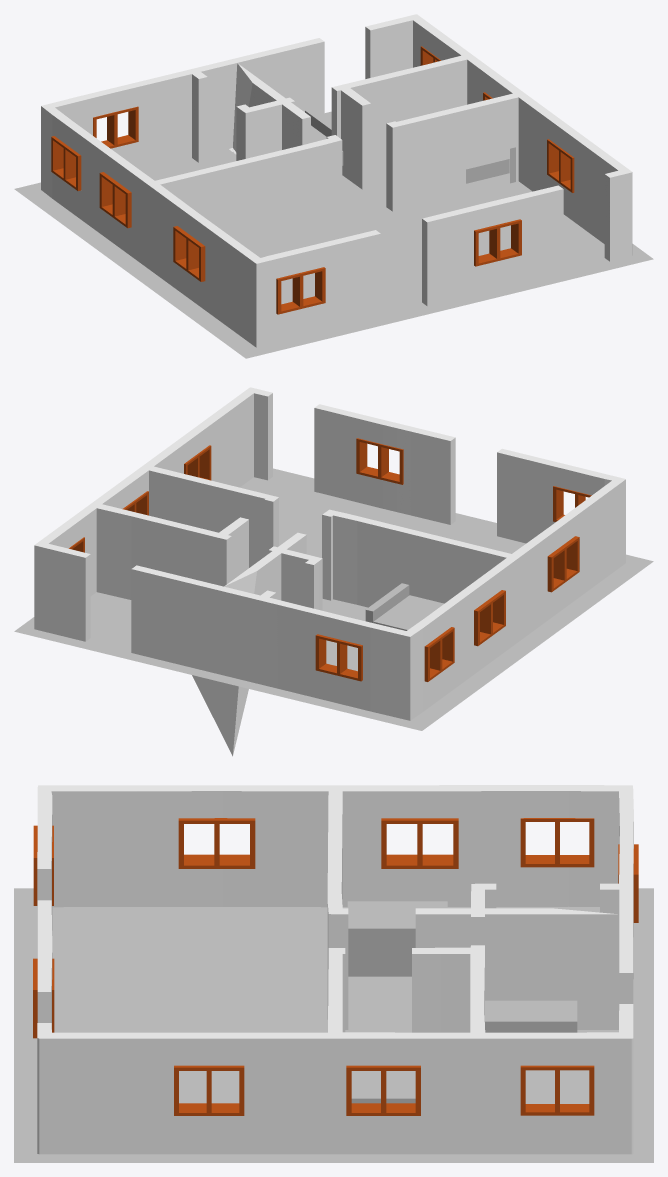
3 views of the same model, one above another, from view 1: azimuth 30°, elevation 25°; view 2: azimuth 150°, elevation 25°; view 3: azimuth 270°, elevation 25° (orthographic). The views are drawn at different scales.
Parts seen in each view (by area): view 1: Curve_Curve.016, Curve.001_Curve.017, window_Plane.077, window_Plane.076, window_Plane.082, window_Plane.083, window_Plane.078, window_Plane.079, window_Plane.081, bed_Cube.004_Cube.011, bed_Cube.004_Cube.012; view 2: Curve_Curve.016, Curve.001_Curve.017, bed_Cube.004_Cube.010, window_Plane.079, window_Plane.076, window_Plane.082, window_Plane.083, window_Plane.078, window_Plane.081, window_Plane.077; view 3: Curve_Curve.016, Curve.001_Curve.017, bed_Cube.004_Cube.010, bed_Cube.004_Cube.012, window_Plane.082, window_Plane.083, window_Plane.080, window_Plane.075, window_Plane.081, window_Plane.078, bed_Cube.004_Cube.011, window_Plane.076 (+1 smaller).
Part boxes in pixels (x1,y1,x2,y2): Curve_Curve.016: (41,14,632,347); Curve.001_Curve.017: (14,111,653,358); window_Plane.077: (276,267,325,314); window_Plane.076: (474,219,521,266); window_Plane.082: (173,226,205,281); window_Plane.083: (99,172,131,228); window_Plane.078: (51,136,81,190); window_Plane.079: (93,106,138,148); window_Plane.081: (547,139,574,192); bed_Cube.004_Cube.011: (466,147,515,183); bed_Cube.004_Cube.012: (305,109,343,165); Curve_Curve.016: (34,387,625,756); Curve.001_Curve.017: (14,468,653,730); bed_Cube.004_Cube.010: (365,583,443,630); window_Plane.079: (315,634,362,681); window_Plane.076: (356,438,403,484); window_Plane.082: (547,536,579,592); window_Plane.083: (474,590,505,646); window_Plane.078: (424,627,454,681); window_Plane.081: (184,445,211,480); window_Plane.077: (553,486,591,521); Curve_Curve.016: (37,785,633,1154); Curve.001_Curve.017: (14,888,653,1162); bed_Cube.004_Cube.010: (347,901,447,976); bed_Cube.004_Cube.012: (485,1000,577,1032); window_Plane.082: (178,818,255,868); window_Plane.083: (381,818,458,868); window_Plane.080: (346,1065,420,1115); window_Plane.075: (520,1065,594,1115); window_Plane.081: (174,1065,244,1115); window_Plane.078: (520,818,594,867); bed_Cube.004_Cube.011: (351,1079,415,1103); window_Plane.076: (33,958,54,1038).
Size of the model in its own units: 0.916 by 0.36 by 0.902.
